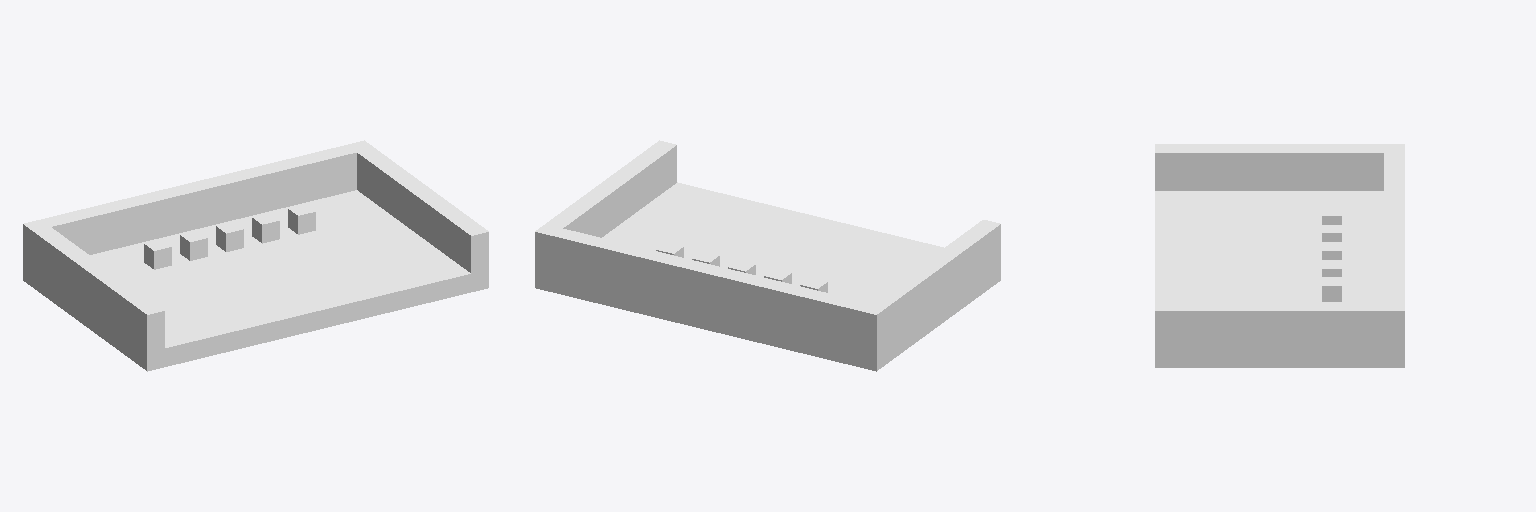
File: puzzle2.obj
3 renders of one model, left to right at view 1: azimuth 30°, elevation 25°; view 2: azimuth 150°, elevation 25°; view 3: azimuth 270°, elevation 25°, orthographic.
Parts seen in each view (by area): view 1: object 1; view 2: object 1; view 3: object 1.
Part boxes in pixels (bbox=[...]): object 1: bbox=[23, 140, 488, 371]; object 1: bbox=[535, 140, 1000, 371]; object 1: bbox=[1155, 144, 1404, 367].
Size of the model in its own units: 7.6 by 1.2 by 4.8.